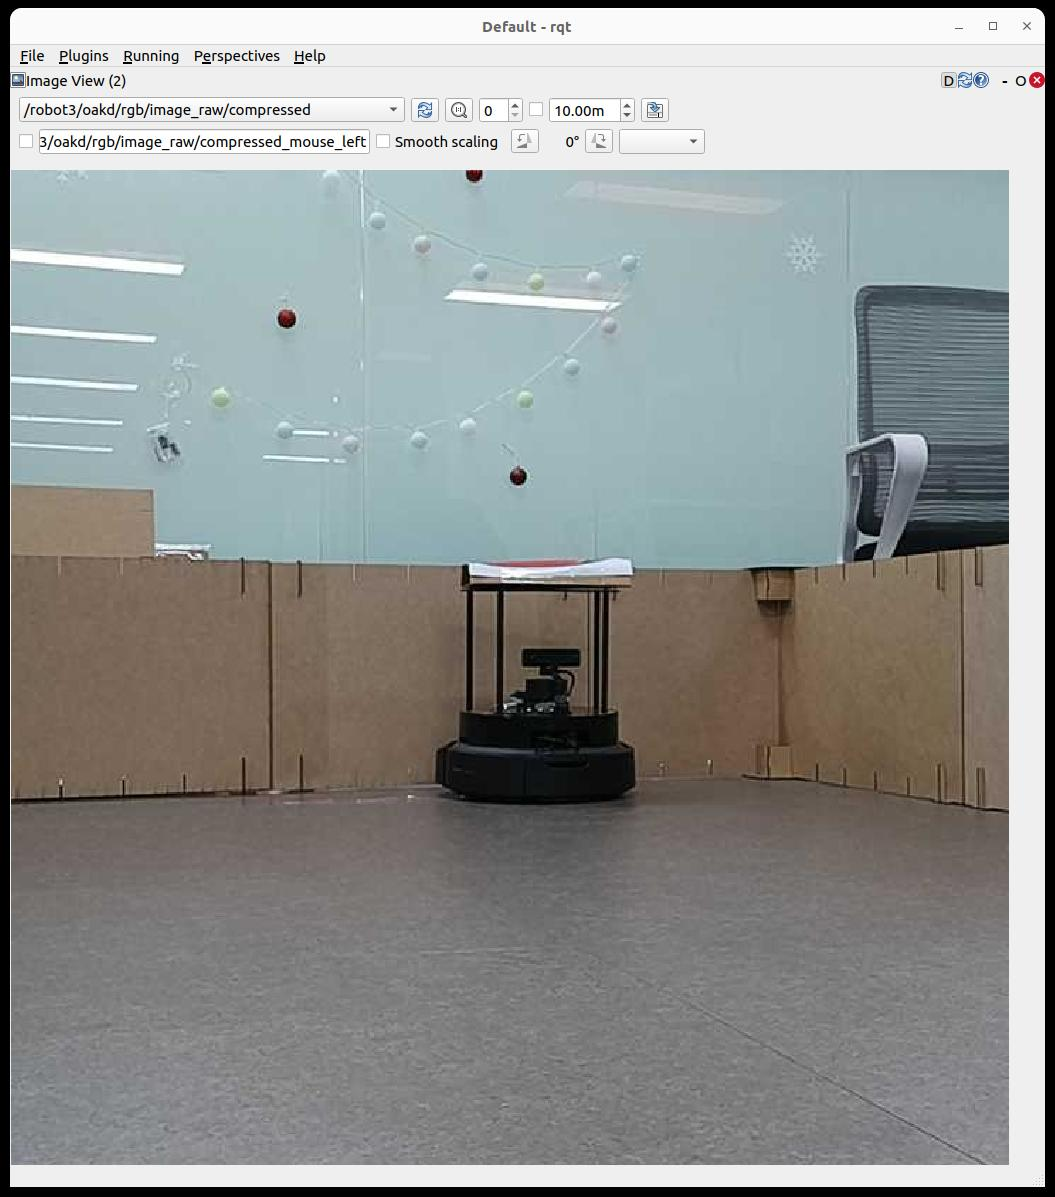AED: (462, 558, 632, 588)
Robot: (436, 567, 635, 800)
